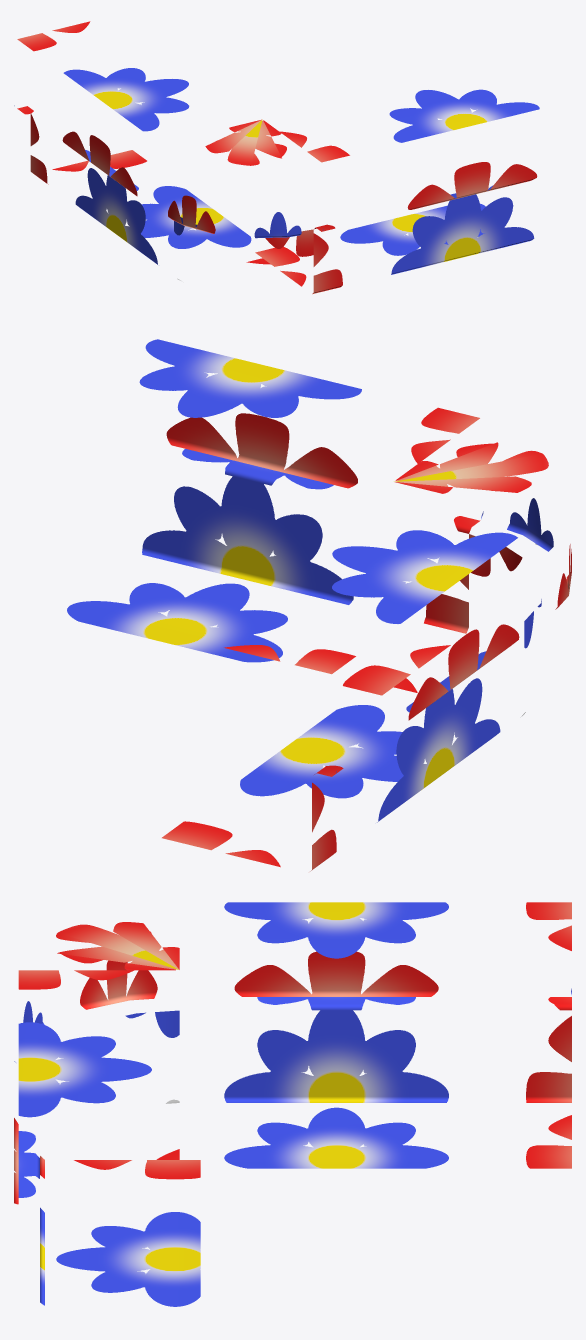
Rendered from SM_SS02_Cornice_Corner.fbx.
3 views of the same model, one above another, from view 1: azimuth 30°, elevation 25°; view 2: azimuth 150°, elevation 25°; view 3: azimuth 270°, elevation 25° (orthographic). The views are drawn at different scales.
Parts seen in each view (by area): view 1: SM_SS02_Cornice_Corner; view 2: SM_SS02_Cornice_Corner; view 3: SM_SS02_Cornice_Corner.
Boxes of the visible parts, x1,y1,x2,y2 form: SM_SS02_Cornice_Corner: [14, 21, 539, 294]; SM_SS02_Cornice_Corner: [67, 339, 571, 871]; SM_SS02_Cornice_Corner: [14, 902, 571, 1306].
Bounding box in the file's own units: 213 × 80 × 213.
